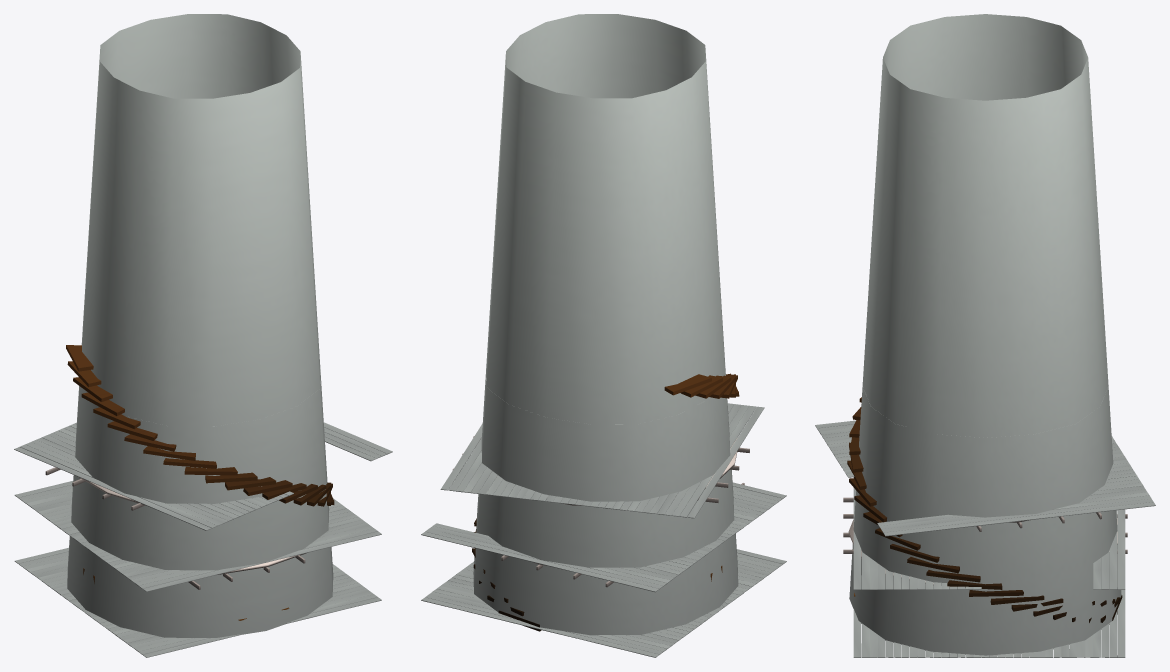
Rendered from VuurtorenInterior.fbx.
3 renders of one model, left to right at view 1: azimuth 30°, elevation 25°; view 2: azimuth 150°, elevation 25°; view 3: azimuth 270°, elevation 25°, orthographic. The views are drawn at different scales.
Visible parts, largest first — view 1: VuurtortenWalls, Plane.010; view 2: VuurtortenWalls, Plane.010; view 3: VuurtortenWalls, Plane.010.
Part boxes in pixels (box(x1,y1,x2,y2)): VuurtortenWalls: box(67, 14, 333, 638); Plane.010: box(14, 345, 392, 657); VuurtortenWalls: box(473, 14, 738, 635); Plane.010: box(421, 373, 786, 657); VuurtortenWalls: box(849, 14, 1121, 655); Plane.010: box(815, 397, 1155, 657).
Bounding box in the file's own units: 1866 × 3352 × 1900.
